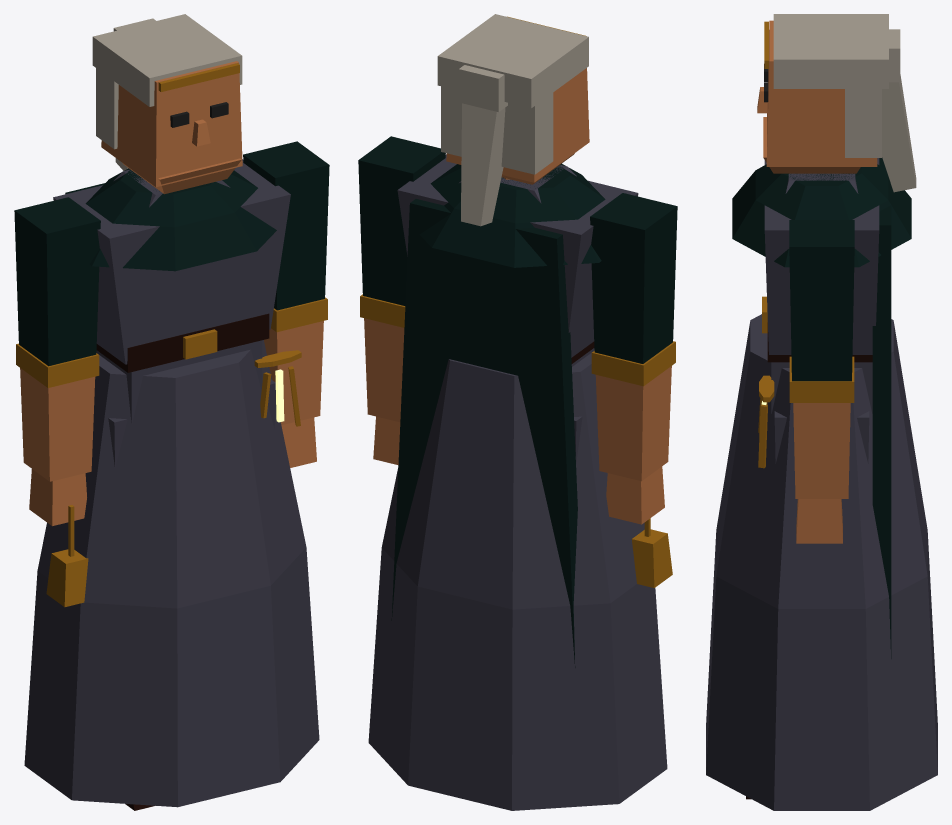
File: IlsaGuardia.fbx
3 renders of one model, left to right at view 1: azimuth 30°, elevation 25°; view 2: azimuth 150°, elevation 25°; view 3: azimuth 270°, elevation 25°, orthographic.
Visible parts, largest first — view 1: Body, ArmR, Head, ArmL, LegR; view 2: Body, ArmR, Head, ArmL; view 3: Body, Head, ArmL, LegL.
Boxes of the visible parts, left/top/right/bottom form: Body: left=24, top=159, right=319, bottom=807; ArmR: left=14, top=197, right=100, bottom=607; Head: left=92, top=14, right=242, bottom=194; ArmL: left=243, top=141, right=329, bottom=467; LegR: left=108, top=418, right=155, bottom=810; Body: left=368, top=154, right=667, bottom=810; ArmR: left=590, top=193, right=677, bottom=587; Head: left=437, top=14, right=589, bottom=226; ArmL: left=358, top=136, right=445, bottom=464; Body: left=706, top=157, right=937, bottom=810; Head: left=757, top=14, right=916, bottom=192; ArmL: left=789, top=220, right=854, bottom=543; LegL: left=746, top=411, right=869, bottom=799.
Size of the model in its own units: 0.696 by 1.68 by 0.4875.
